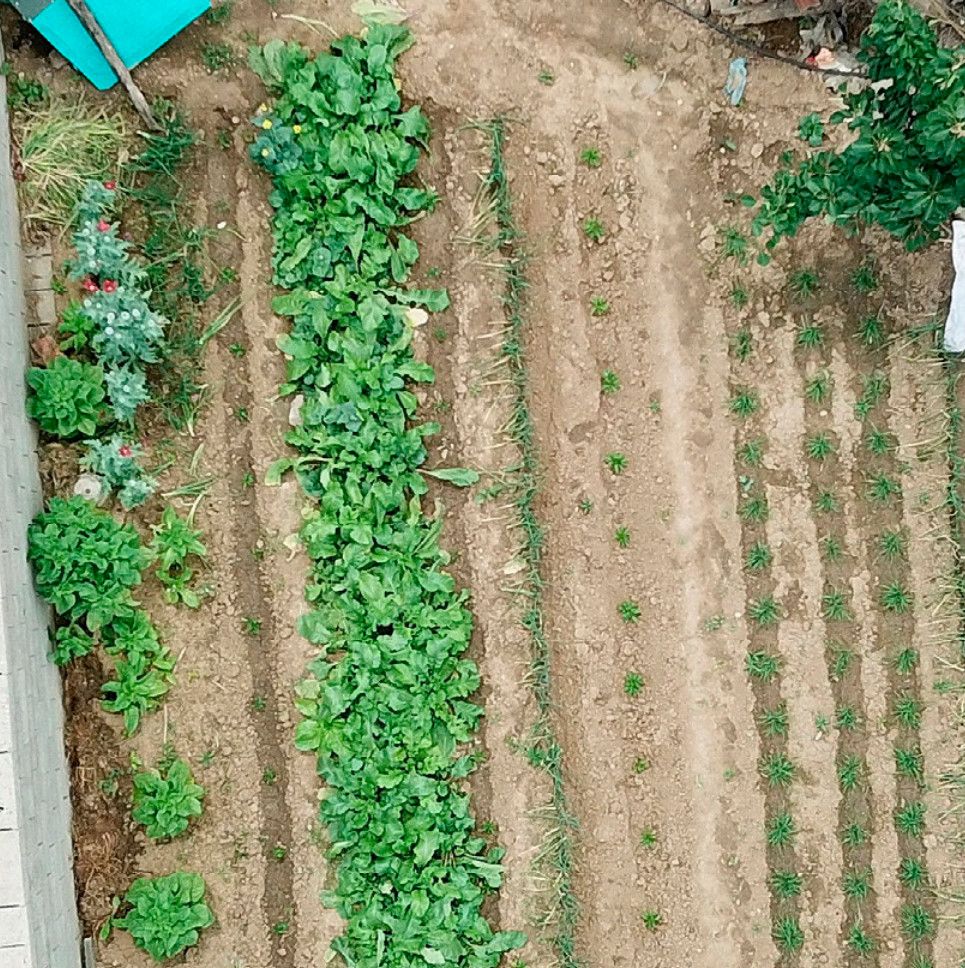Poppy: (72, 276, 169, 364), (69, 175, 141, 276), (81, 432, 159, 496), (100, 364, 157, 424)
